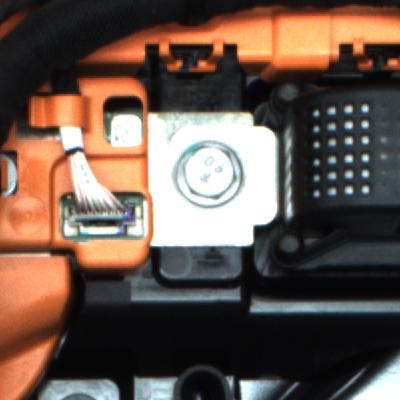nut_b: (175, 138, 251, 214)
